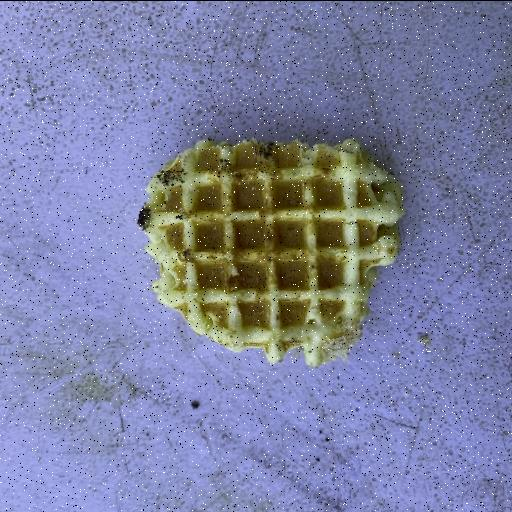Waste: (136, 136, 406, 368)
